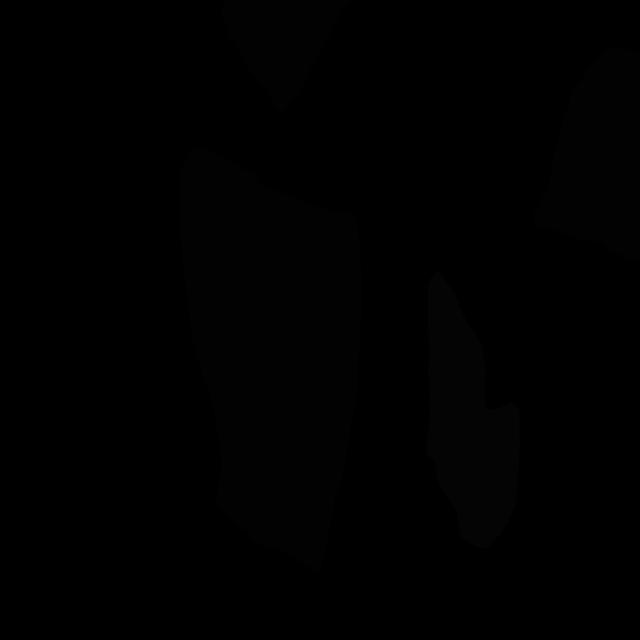cardboard: (180, 146, 362, 572), (534, 47, 640, 264), (220, 0, 354, 113)
soft_plastic: (425, 271, 520, 548)
